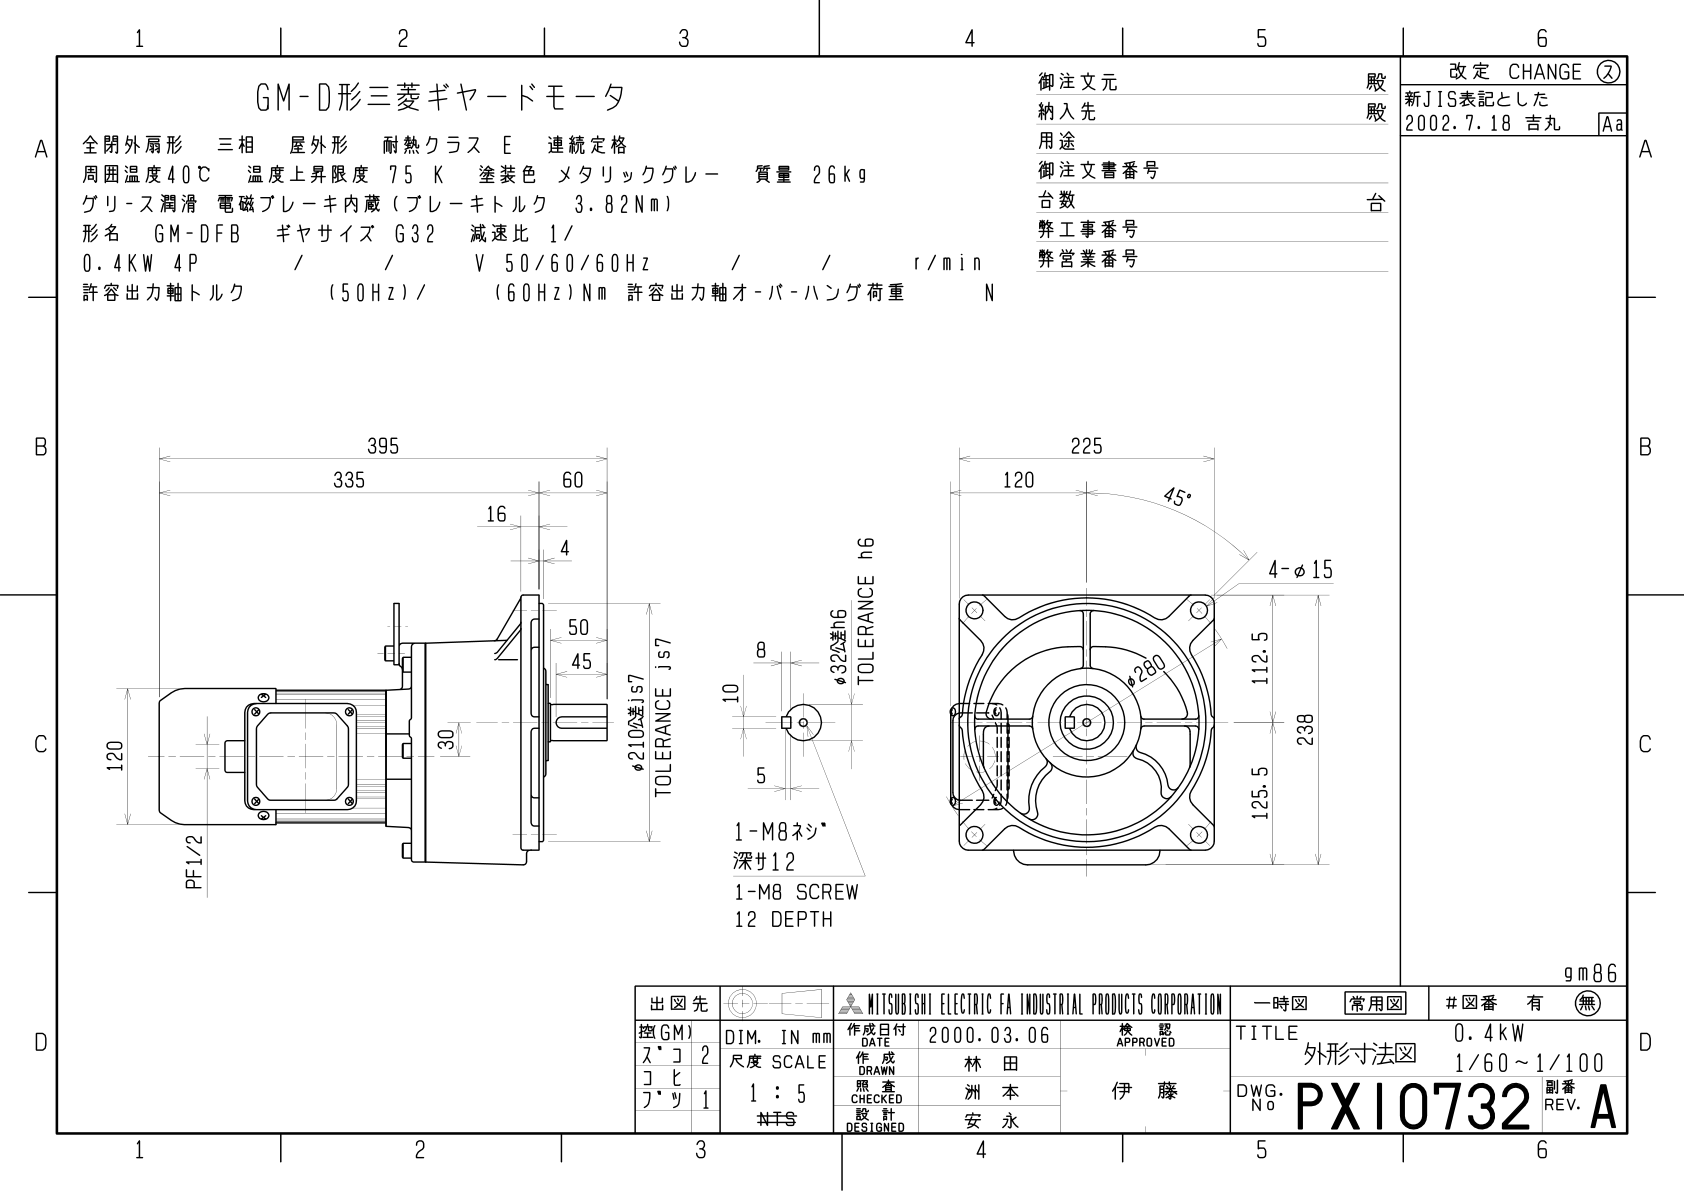GM_D_屋外＿三相_フランジ: (82, 375, 1364, 945)
